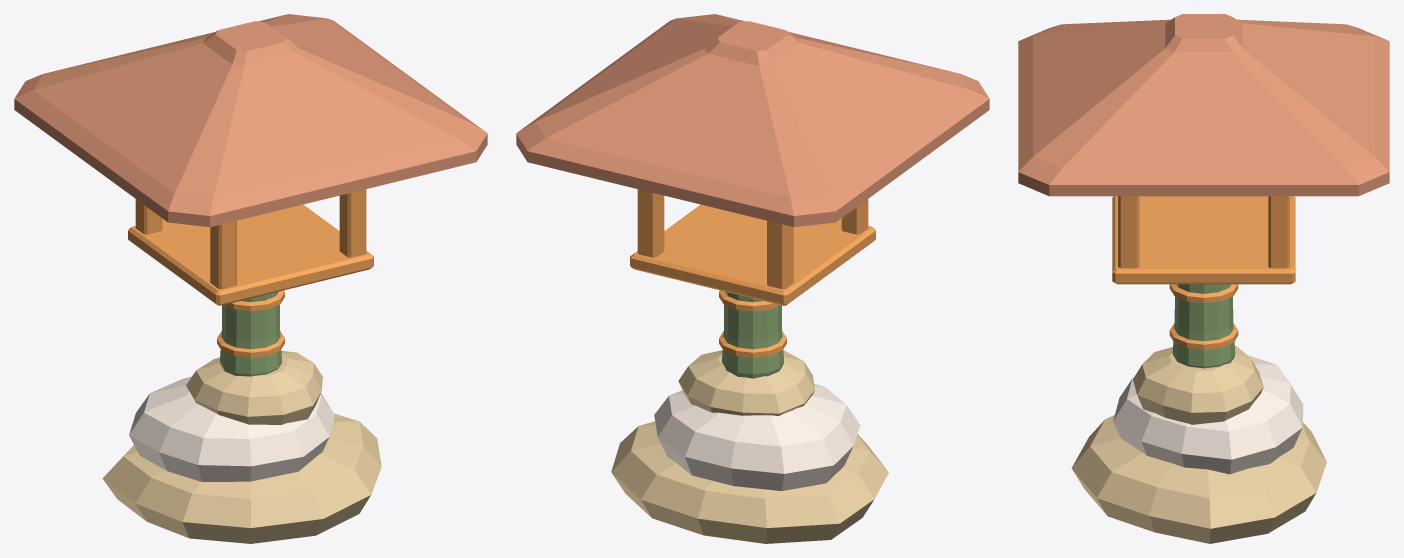
The model's file is gardenLamp.glb.
The picture shows the model from 3 angles, left to right: view 1: azimuth 30°, elevation 25°; view 2: azimuth 150°, elevation 25°; view 3: azimuth 270°, elevation 25°; orthographic projection.
Parts seen in each view (by area): view 1: gardenLamp; view 2: gardenLamp; view 3: gardenLamp.
Part boxes in pixels (bbox=[...]): gardenLamp: bbox=[14, 14, 487, 543]; gardenLamp: bbox=[516, 14, 989, 543]; gardenLamp: bbox=[1018, 14, 1389, 543].
Bounding box in the file's own units: 0.9 × 1.26 × 0.9.
1 material, 1 textured.
